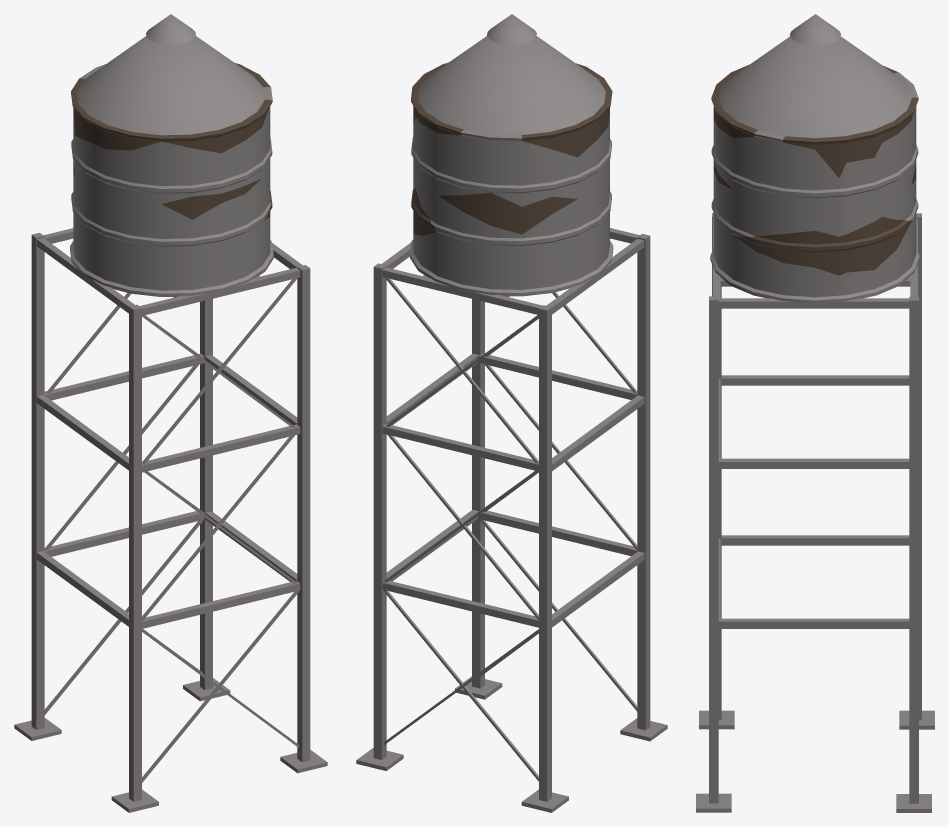
The model's file is watertower.glb.
3 renders of one model, left to right at view 1: azimuth 30°, elevation 25°; view 2: azimuth 150°, elevation 25°; view 3: azimuth 270°, elevation 25°, orthographic. The views are drawn at different scales.
Parts seen in each view (by area): view 1: WaterTower; view 2: WaterTower; view 3: WaterTower.
Boxes of the visible parts, bbox=[...] form: WaterTower: bbox=[14, 14, 327, 812]; WaterTower: bbox=[356, 14, 667, 812]; WaterTower: bbox=[696, 14, 934, 812].
Bounding box in the file's own units: 2.65 × 9.38 × 2.71.
1 material, 1 textured.
